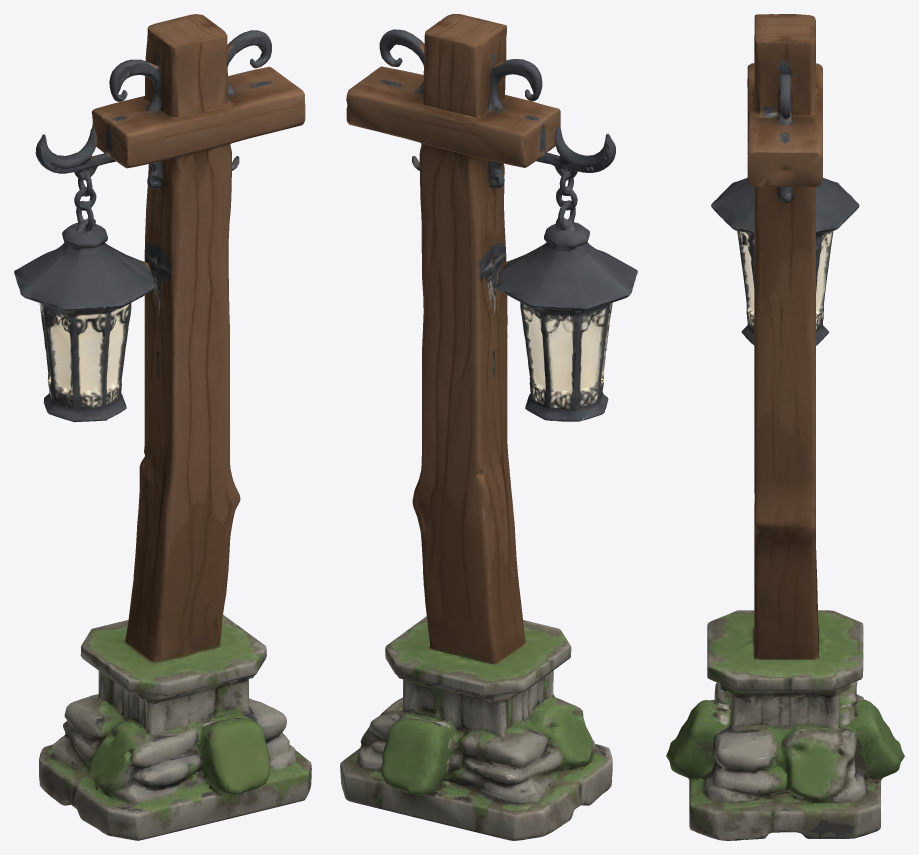
The model's file is LampPostStone.glb.
3 views of the same model, side by side, from view 1: azimuth 30°, elevation 25°; view 2: azimuth 150°, elevation 25°; view 3: azimuth 270°, elevation 25° (orthographic).
Visible parts, largest first — view 1: LampPostStone; view 2: LampPostStone; view 3: LampPostStone.
Part boxes in pixels (x1,y1,x2,y2): LampPostStone: (14, 14, 311, 840); LampPostStone: (340, 14, 637, 840); LampPostStone: (666, 14, 904, 840).
Bounding box in the file's own units: 1.06 × 2.88 × 0.8121.
2 materials, 2 textured.
